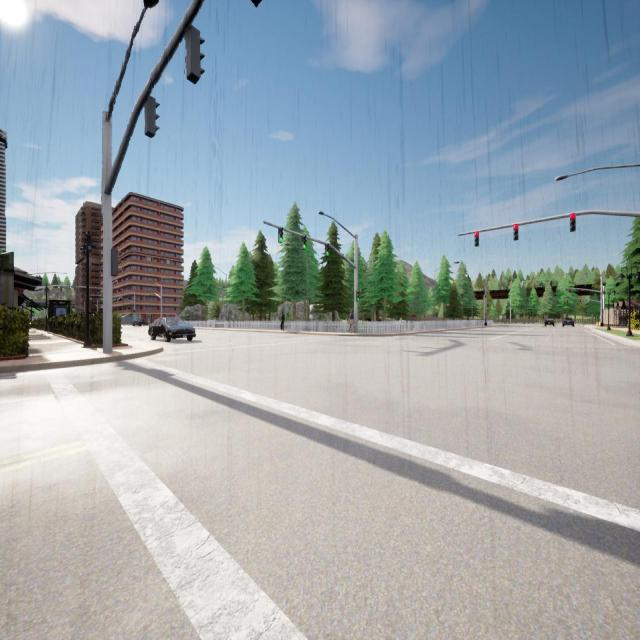Pedestrian: (348, 309, 354, 333), (280, 312, 284, 331)
Traffic_Signs: (500, 315, 502, 319)
Vehicle: (148, 317, 195, 341), (563, 318, 574, 327), (134, 319, 146, 326), (545, 318, 554, 326)
traffic_light: (187, 28, 205, 84), (146, 97, 159, 138), (111, 250, 118, 275), (570, 214, 576, 231), (278, 228, 283, 243), (474, 232, 479, 246), (514, 224, 518, 240), (302, 236, 306, 250), (325, 243, 329, 256), (356, 290, 360, 302), (569, 288, 571, 293), (101, 296, 103, 300), (114, 298, 116, 302), (90, 296, 92, 300), (61, 286, 62, 291), (580, 298, 581, 302), (567, 300, 568, 303), (558, 300, 558, 303)
